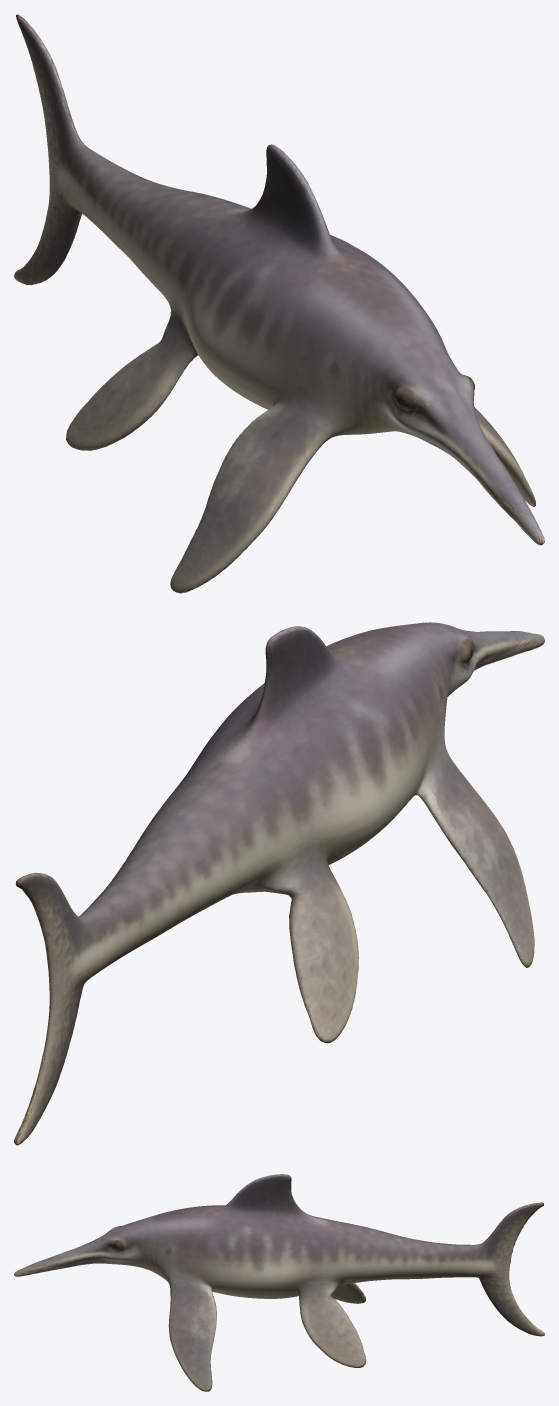
3 renders of one model, top to bottom at view 1: azimuth 30°, elevation 25°; view 2: azimuth 150°, elevation 25°; view 3: azimuth 270°, elevation 25°, orthographic. The views are drawn at different scales.
Parts seen in each view (by area): view 1: world; view 2: world; view 3: world.
Part boxes in pixels (left/top/right/bottom): world: left=14, top=14, right=544, bottom=593; world: left=14, top=622, right=544, bottom=1145; world: left=14, top=1174, right=544, bottom=1391.
Size of the model in its own units: 1 by 0.9236 by 2.56.
1 material, 1 textured.
